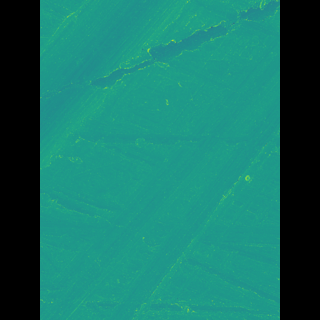Loch: (120, 30, 250, 320), (71, 0, 176, 175)
